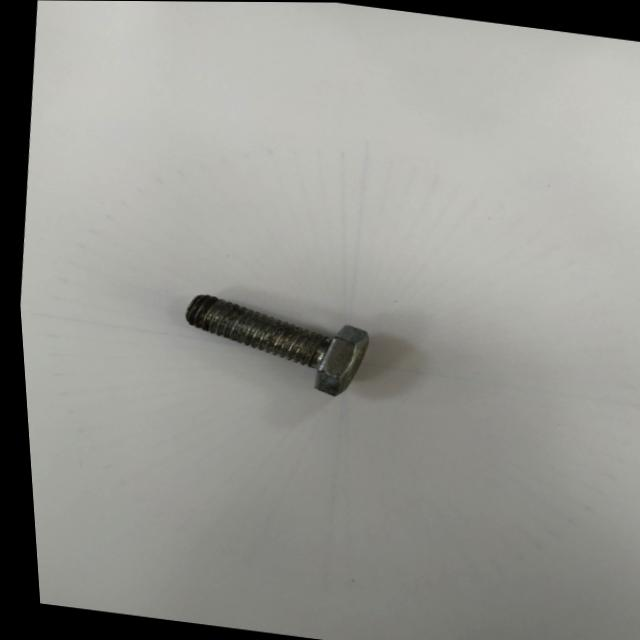Bolt: (181, 294, 363, 395)
